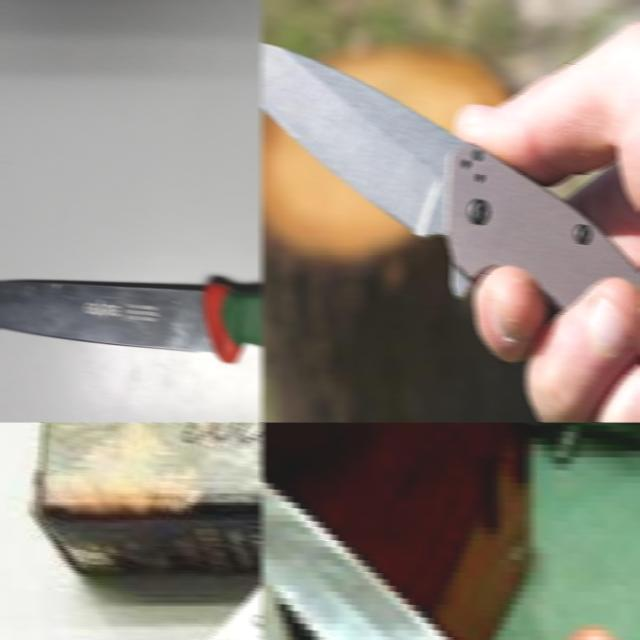Knife: (261, 38, 564, 314), (261, 481, 449, 640), (0, 278, 263, 362)
Knife_Handle: (261, 13, 640, 422), (261, 423, 640, 640)
